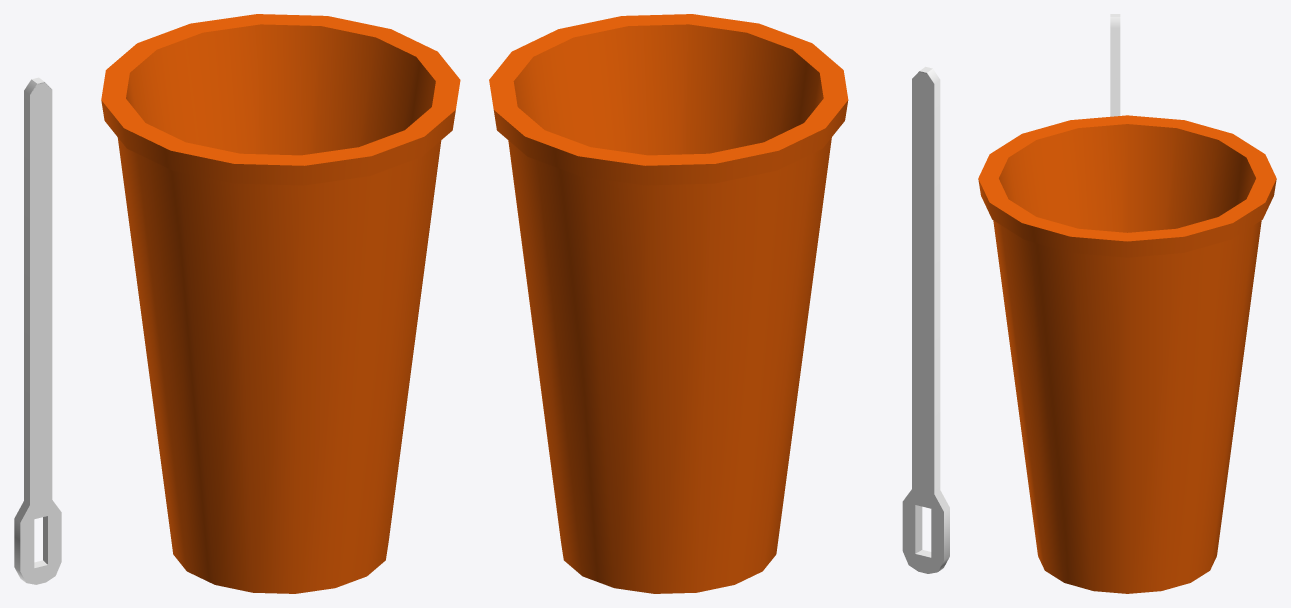
File: coffee cup and stir spoon.FBX
3 renders of one model, left to right at view 1: azimuth 30°, elevation 25°; view 2: azimuth 150°, elevation 25°; view 3: azimuth 270°, elevation 25°, orthographic. The views are drawn at different scales.
Visible parts, largest first — view 1: coffee cup, coffee spoon; view 2: coffee cup, coffee spoon; view 3: coffee cup, coffee spoon.
Part boxes in pixels (x1,y1,x2,y2): coffee cup: [101, 14, 460, 593]; coffee spoon: [14, 77, 61, 584]; coffee cup: [489, 14, 848, 593]; coffee spoon: [902, 66, 949, 573]; coffee cup: [978, 115, 1276, 593]; coffee spoon: [1110, 14, 1120, 116].
Size of the model in its own units: 117 by 140 by 85.95.
Materials: 2 (2 with a texture image).
